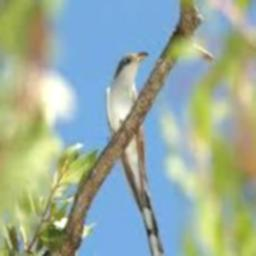Cuckoo: (106, 52, 165, 256)
